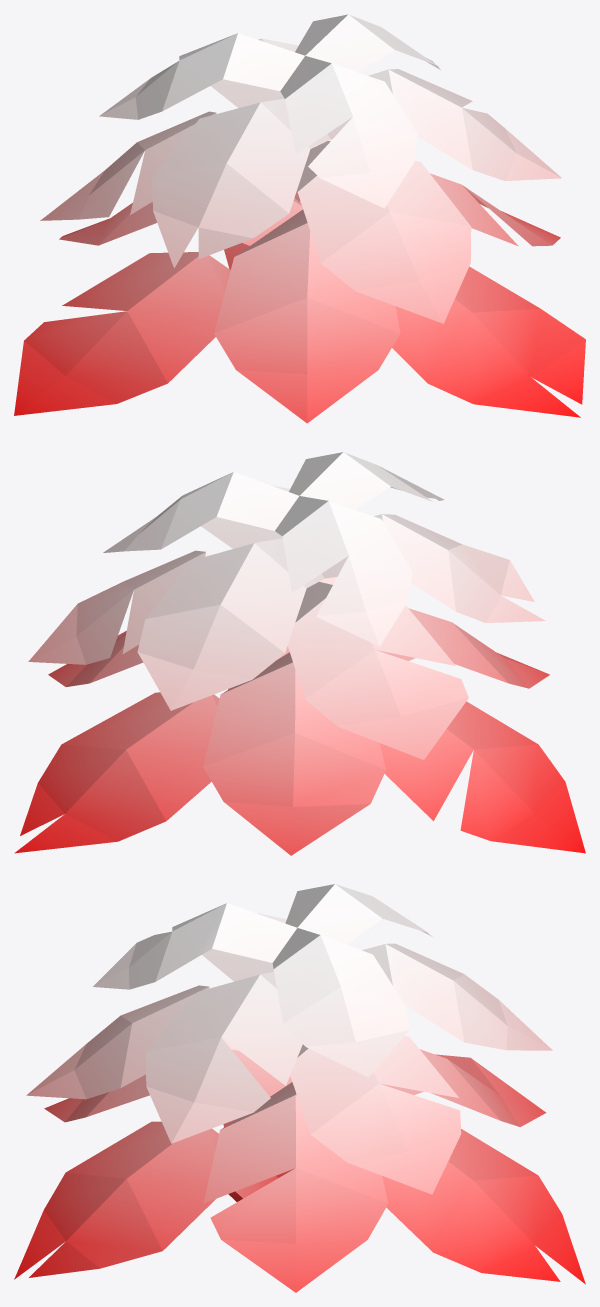
File: synty-plant-fern-02.gltf
3 views of the same model, one above another, from view 1: azimuth 30°, elevation 25°; view 2: azimuth 150°, elevation 25°; view 3: azimuth 270°, elevation 25° (orthographic).
Parts seen in each view (by area): view 1: SM_Plant_Fern_02; view 2: SM_Plant_Fern_02; view 3: SM_Plant_Fern_02.
Boxes of the visible parts, left/top/right/bottom form: SM_Plant_Fern_02: left=14, top=14, right=585, bottom=423; SM_Plant_Fern_02: left=14, top=452, right=585, bottom=855; SM_Plant_Fern_02: left=14, top=884, right=585, bottom=1292.
Size of the model in its own units: 1.15 by 0.6338 by 1.05.
Materials: 1 (1 with a texture image).
